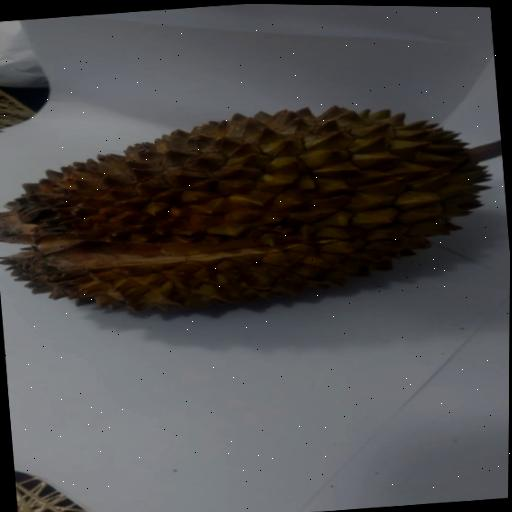rot: (0, 75, 511, 358)
